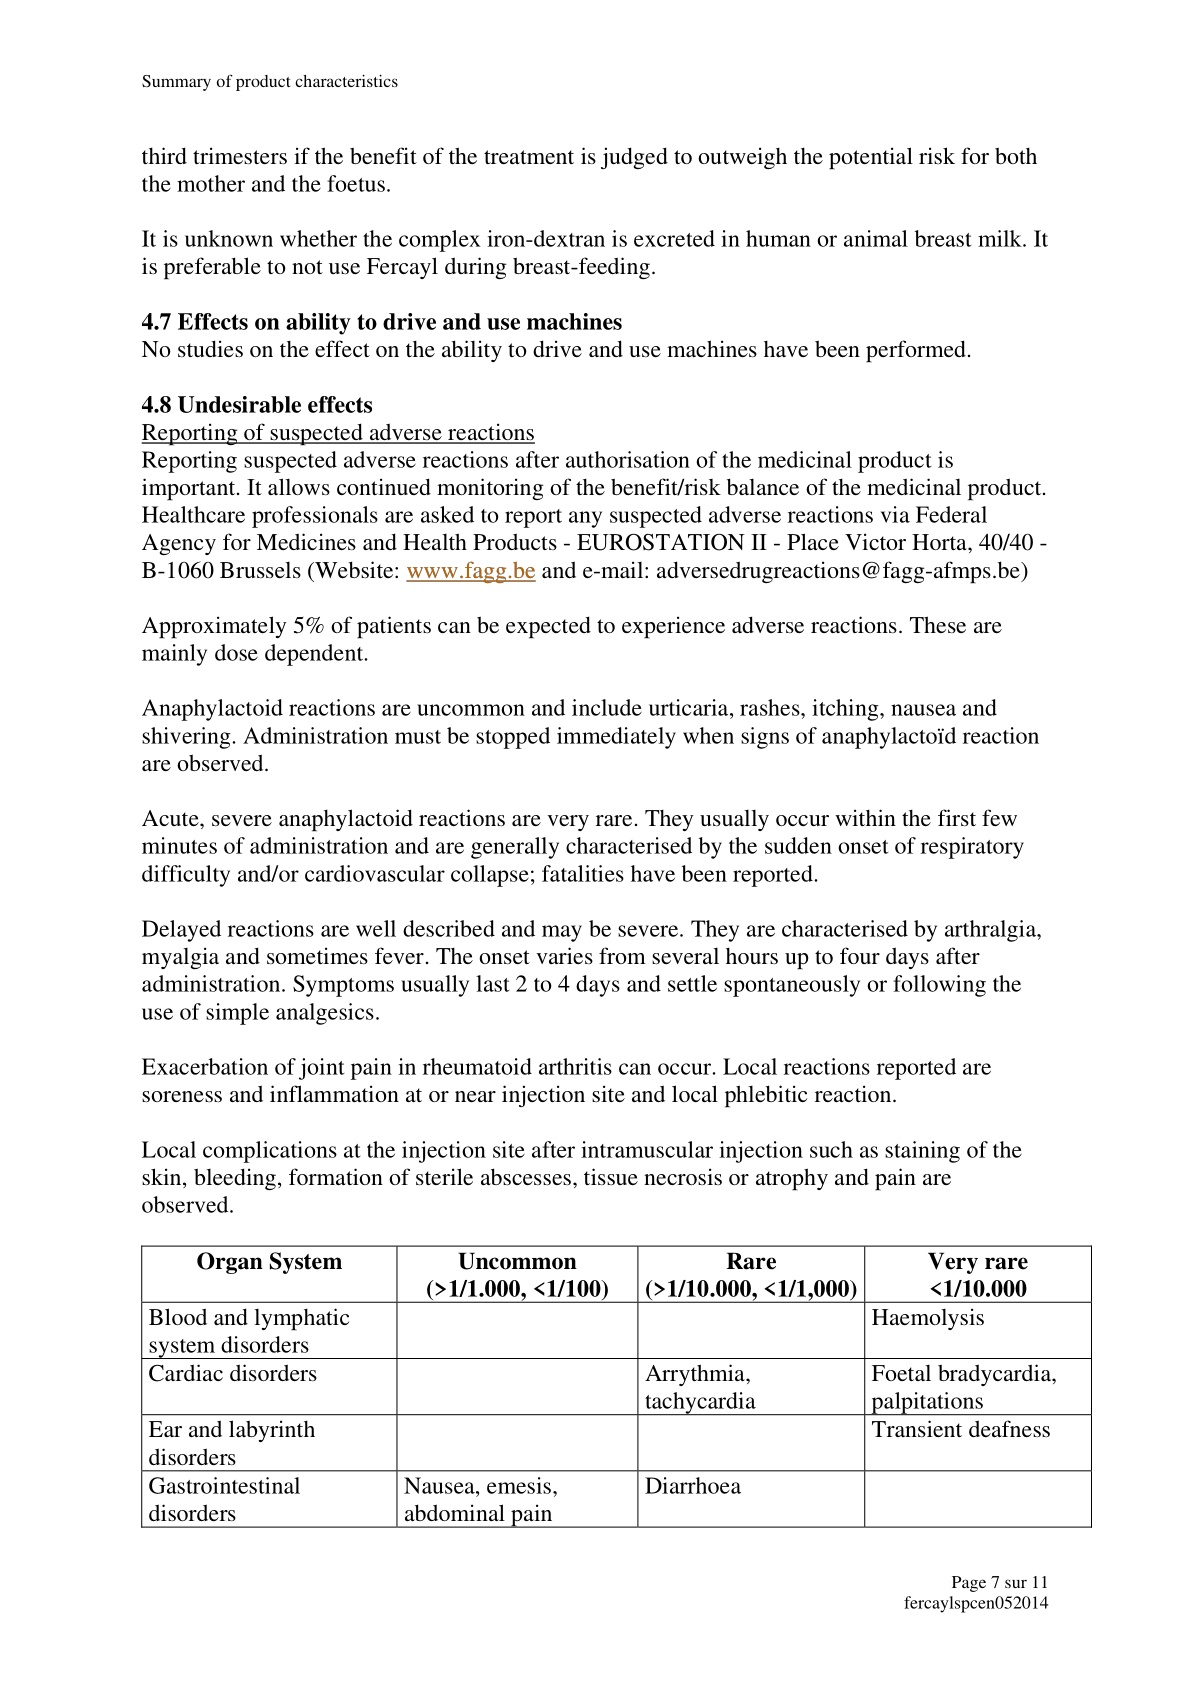full_lined: (140, 1245, 1092, 1528)
